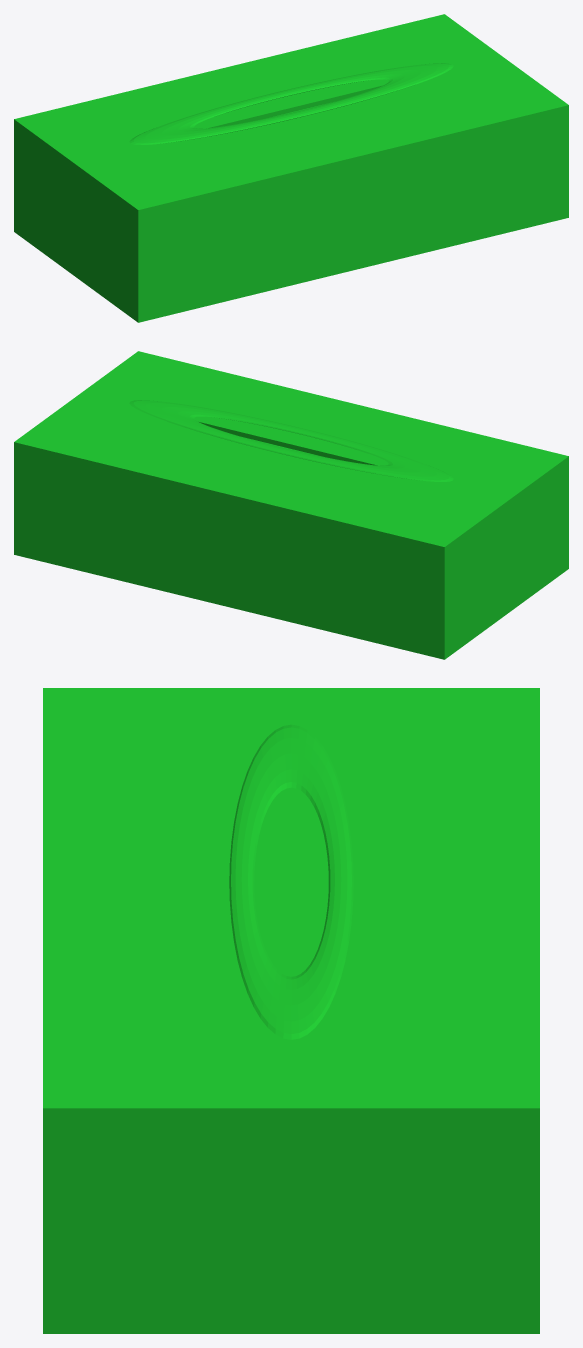
The model's file is glovebox.fbx.
3 renders of one model, top to bottom at view 1: azimuth 30°, elevation 25°; view 2: azimuth 150°, elevation 25°; view 3: azimuth 270°, elevation 25°, orthographic. The views are drawn at different scales.
Visible parts, largest first — view 1: glovebox; view 2: glovebox; view 3: glovebox.
Boxes of the visible parts, <box> form: glovebox: <box>14,14,568,322</box>; glovebox: <box>14,351,568,659</box>; glovebox: <box>43,688,539,1333</box>.
Size of the model in its own units: 400 by 108 by 200.
